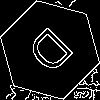D: (25, 25, 83, 83)
